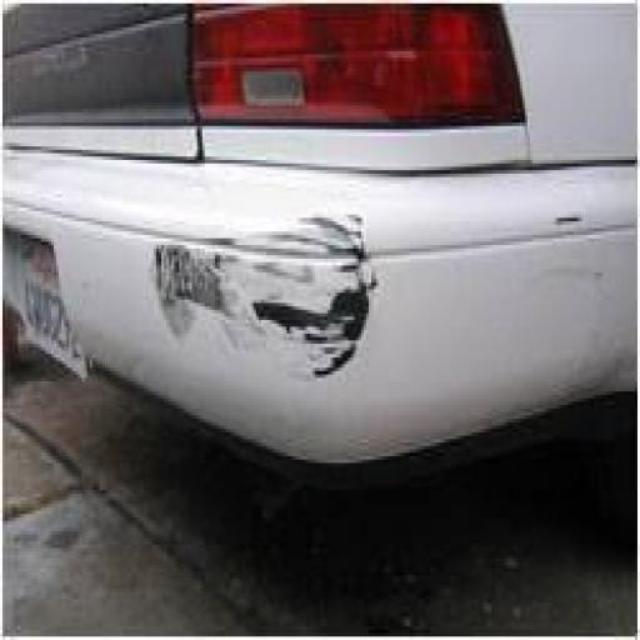crack: (146, 208, 381, 381)
